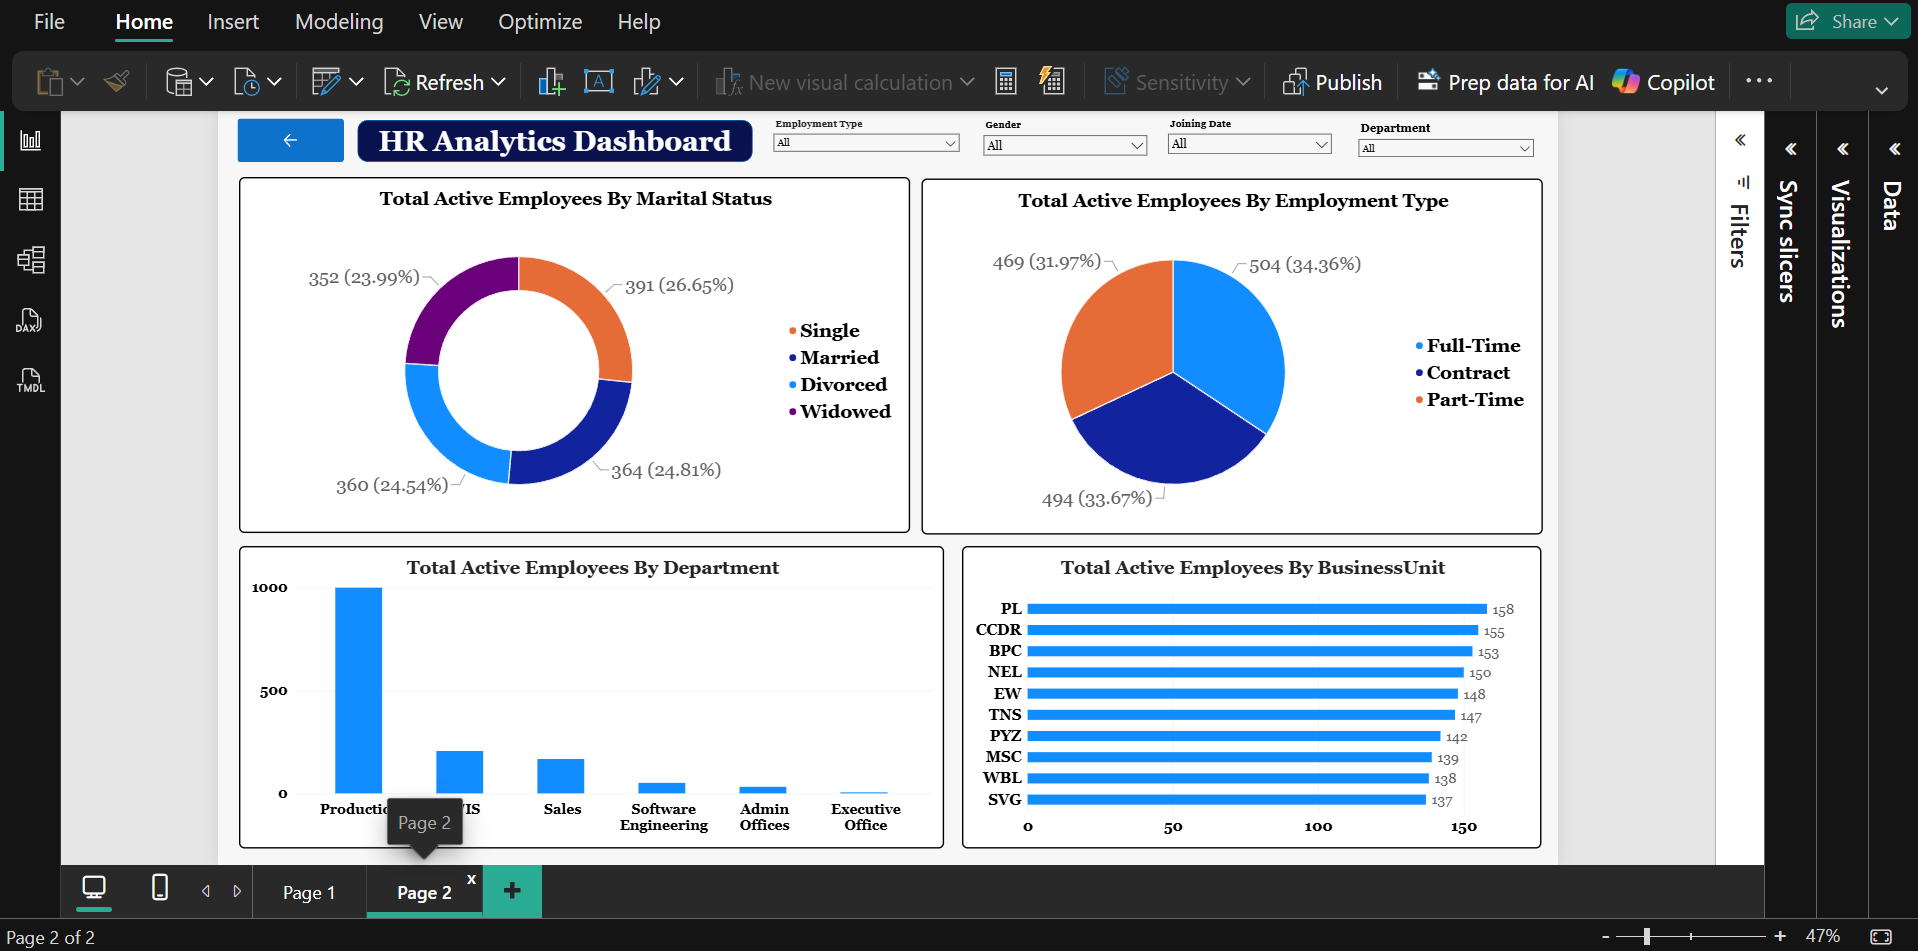

What the dashboard file says about the page in this screenshot:
{"tool":"powerbi","page":{"name":"Page 2","canvas":[1920,1080],"ordinal":1},"visuals":[{"type":"barChart","title":"Total Active Employees By BusinessUnit","fields":{"Category":["employee_data.BusinessUnit"],"Y":["Table.Total Active Employees"]},"box":[1066.7,623.3,830,433.3],"z":0},{"type":"donutChart","title":"Total Active Employees By Marital Status","fields":{"Category":["employee_data.MaritalDesc"],"Y":["Table.Total Active employees"]},"box":[29.3,95.2,961.3,509.9],"z":1000},{"type":"pieChart","title":"Total Active Employees By Employment Type","fields":{"Category":["employee_data.Employment Type"],"Y":["Table.Total Active Employees"]},"box":[1008,96,890,510],"z":2000},{"type":"columnChart","title":"Total Active Employees By Department","fields":{"Category":["employee_data.Department"],"Y":["Table.Total Active Employees"]},"box":[30,623.3,1010,433.3],"z":3000},{"type":"actionButton","box":[28.9,10,152.5,62.5],"z":4000},{"type":"slicer","fields":{"Values":["employee_data.Employment Type"]},"box":[791.4,11.4,276,58],"z":5000},{"type":"slicer","fields":{"Values":["employee_data.Gender"]},"box":[1092,12,244,62],"z":6000},{"type":"slicer","title":"Joining Date","fields":{"Values":["employee_data.StartDate"]},"box":[1356,10,244,60],"z":7000},{"type":"slicer","fields":{"Values":["employee_data.Department"]},"box":[1628,14,261.1,61],"z":8000},{"type":"shape","box":[200,12,566,60],"z":9000}]}

Visuals, with their boxes on the page's 1920x1080 design canvas (x1, y1, x2, y2). These are canvas units, not pixel positions in the 1918x951 screenshot, which may show the page scaled, cropped or inside an application window:
"Total Active Employees By BusinessUnit" barChart: pyautogui.locateOnScreen(1067, 623, 1897, 1057)
"Total Active Employees By Marital Status" donutChart: pyautogui.locateOnScreen(29, 95, 991, 605)
"Total Active Employees By Employment Type" pieChart: pyautogui.locateOnScreen(1008, 96, 1898, 606)
"Total Active Employees By Department" columnChart: pyautogui.locateOnScreen(30, 623, 1040, 1057)
actionButton: pyautogui.locateOnScreen(29, 10, 181, 72)
slicer - employee_data.Employment Type: pyautogui.locateOnScreen(791, 11, 1067, 69)
slicer - employee_data.Gender: pyautogui.locateOnScreen(1092, 12, 1336, 74)
"Joining Date" slicer: pyautogui.locateOnScreen(1356, 10, 1600, 70)
slicer - employee_data.Department: pyautogui.locateOnScreen(1628, 14, 1889, 75)
shape: pyautogui.locateOnScreen(200, 12, 766, 72)
